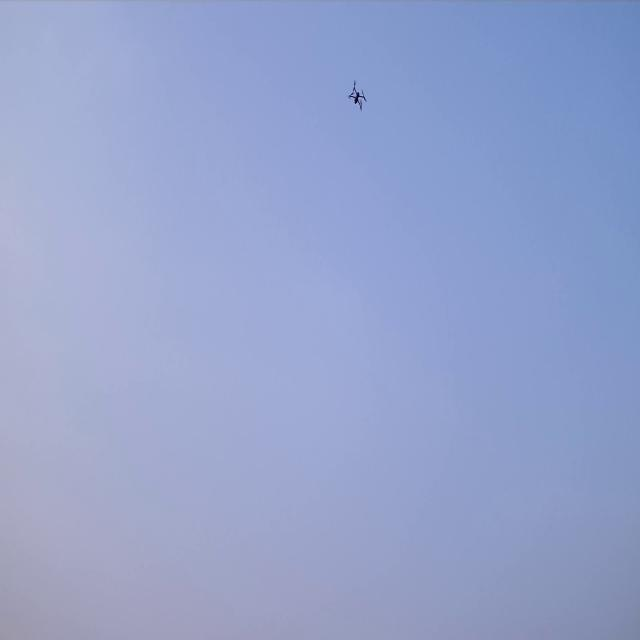UAV: (348, 79, 367, 112)
